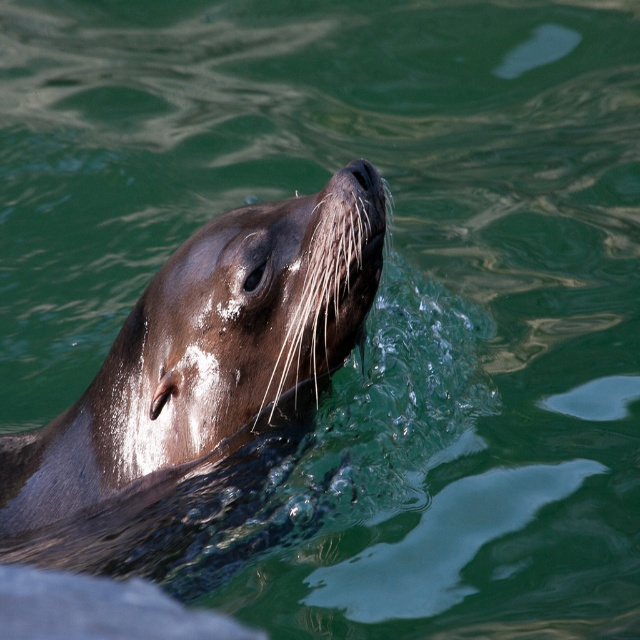Harbor seal: (0, 158, 395, 541)
